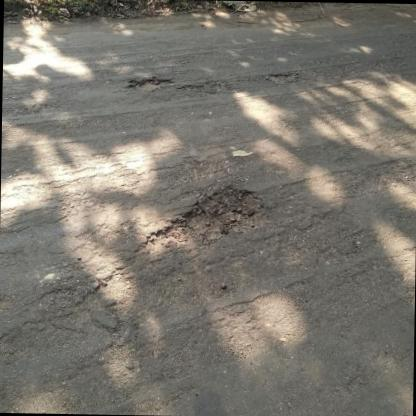pothole: (142, 183, 272, 256), (125, 74, 175, 94), (262, 70, 303, 84)
